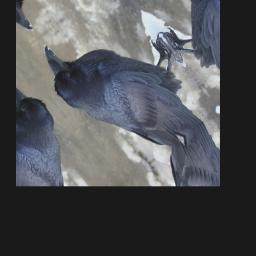Crow: (29, 0, 219, 181)
